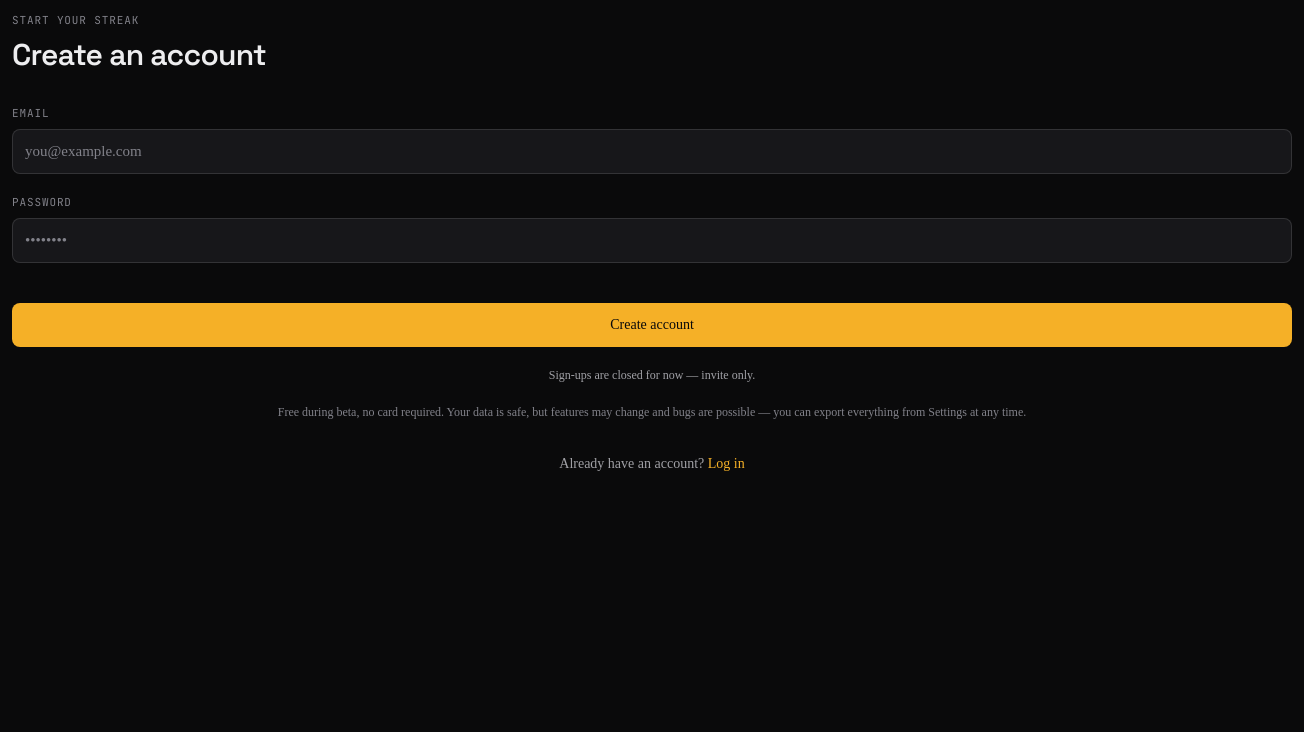
Test: SignupPage › blocks submit with no captcha token and explains why
Type "sam@example.com" into the field labelled "Email" at point(652, 151), box [12,129,1292,174]
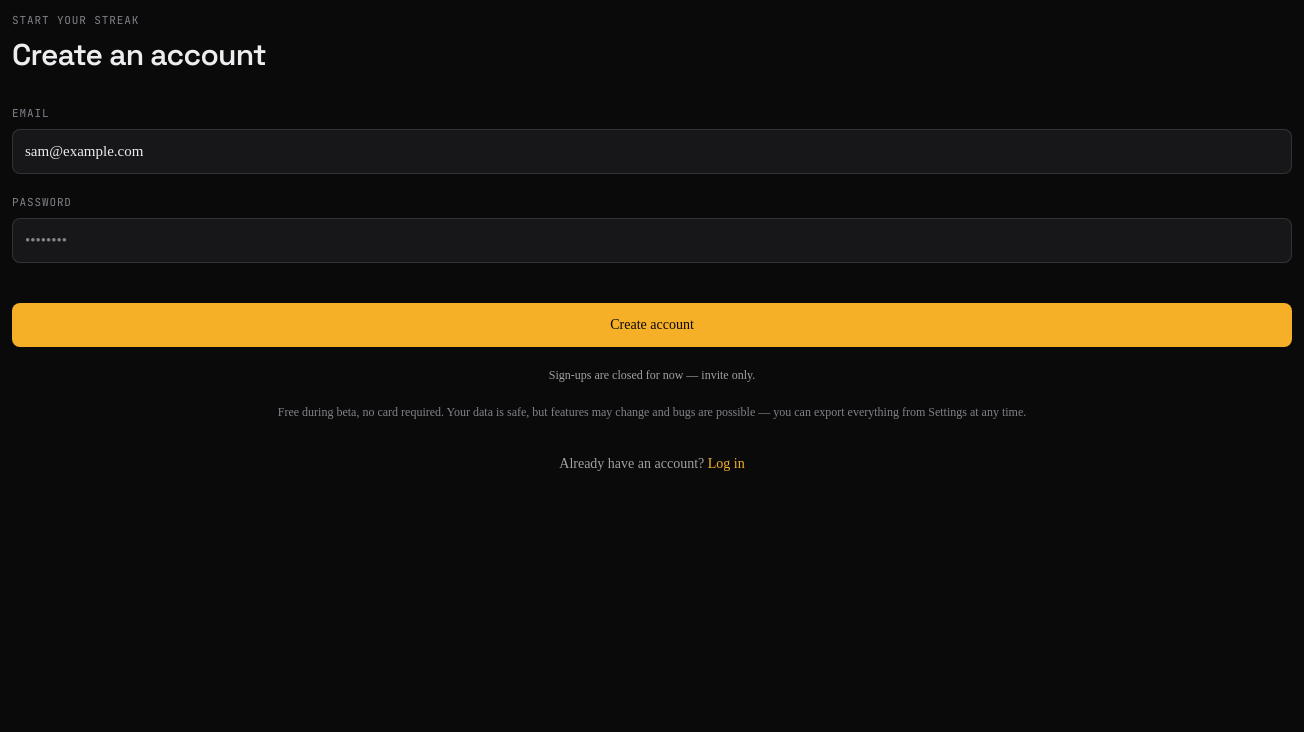
Type "longenough-pw" into the password field labelled "Password" at point(652, 240), box [12,218,1292,262]
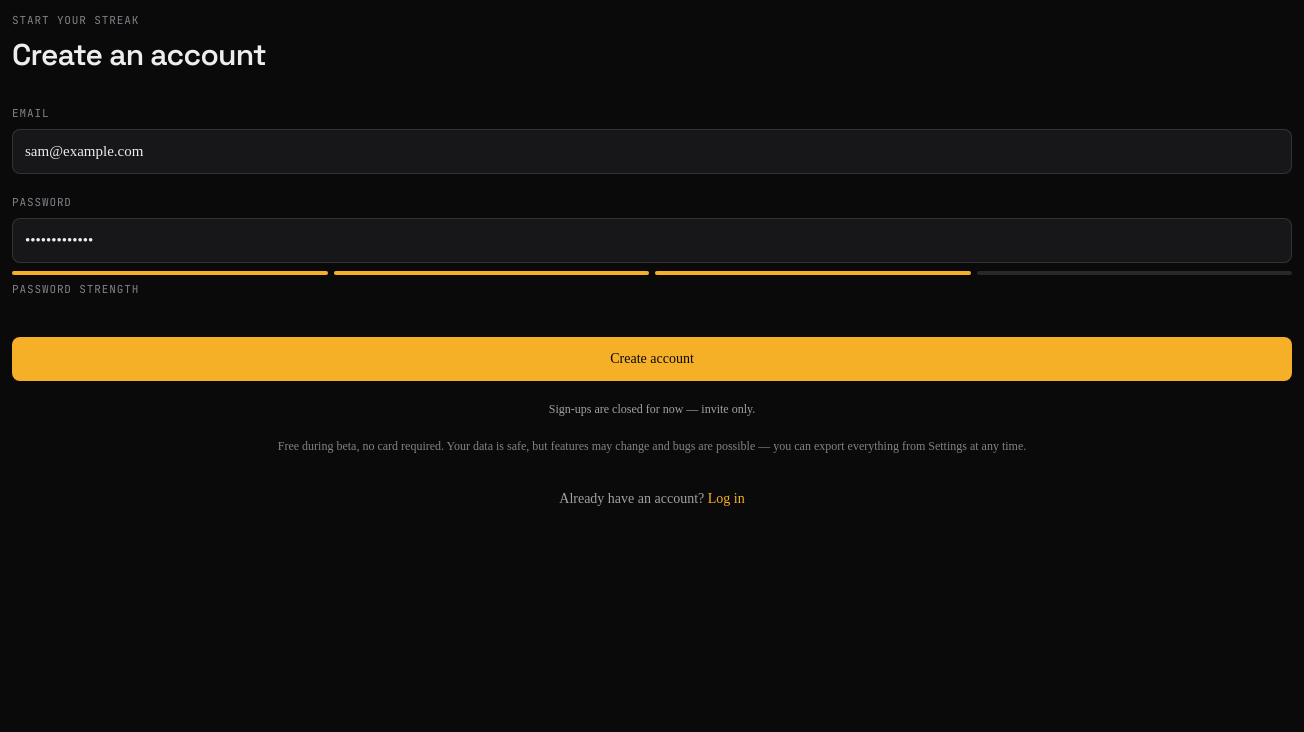
Click the button "Create account" at point(652, 359), box [12,337,1292,381]
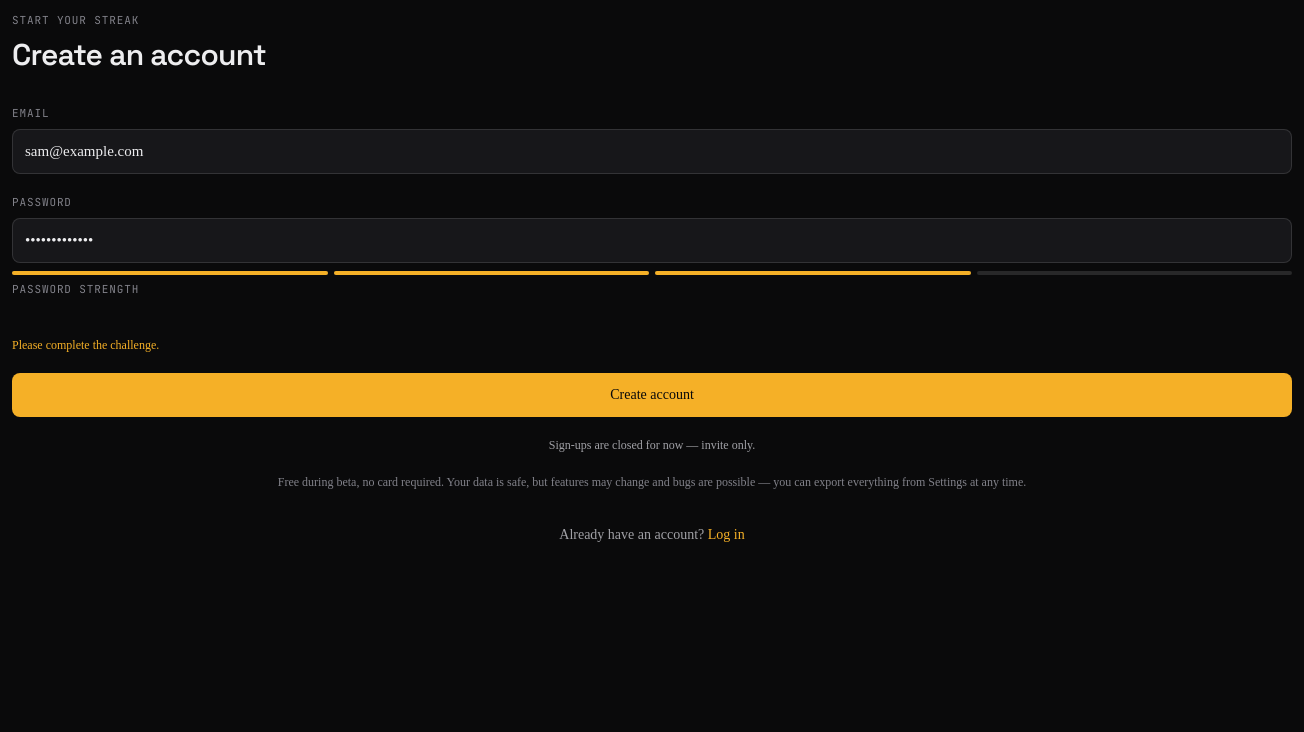
Now the text "Please complete the challenge." is shown, box [12,338,159,352]
